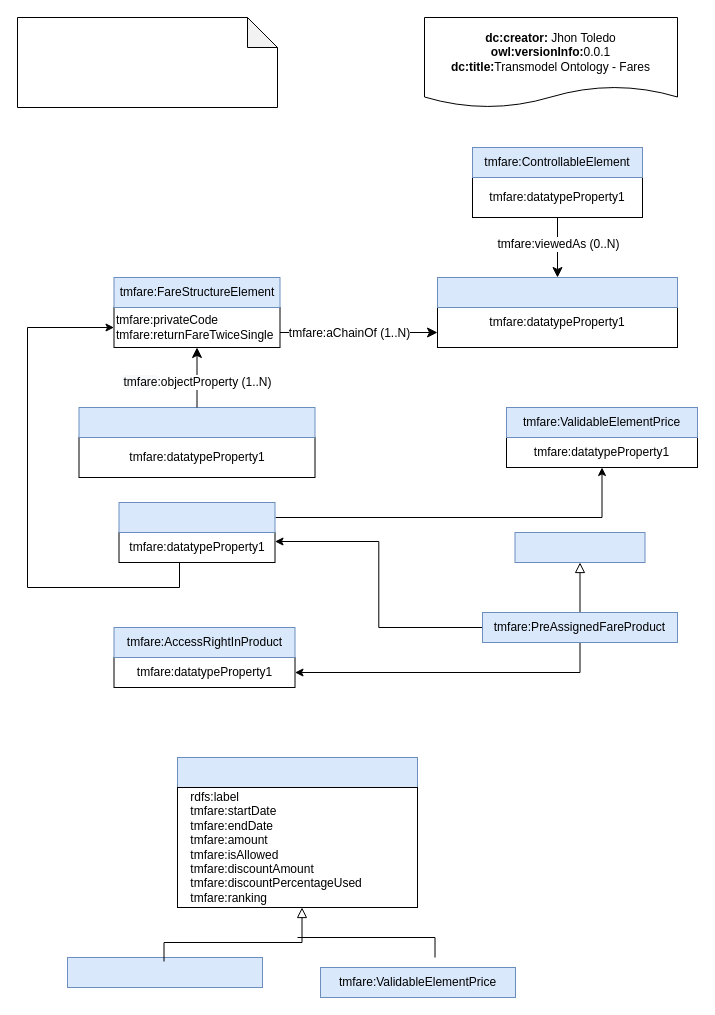
This 715x1015 diagram has some shape labels left out. The box of each missing label's shape, as (x1, y1, x2, y2) in pixels:
base : http://base.namespace.com tmfare: http://w3id.org/transmodel/fare#: (16, 16, 278, 108)
tmfare:ControllableElementInSequence: (436, 276, 678, 308)
tmfare:ControllableElementPrice: (66, 956, 262, 988)
tmfare:FarePrice: (176, 756, 418, 788)
tmfare:FareProduct: (514, 532, 645, 562)
tmfare:FareStructureElementInSequence: (78, 406, 315, 438)
tmfare:ValidableElement: (118, 502, 275, 532)
